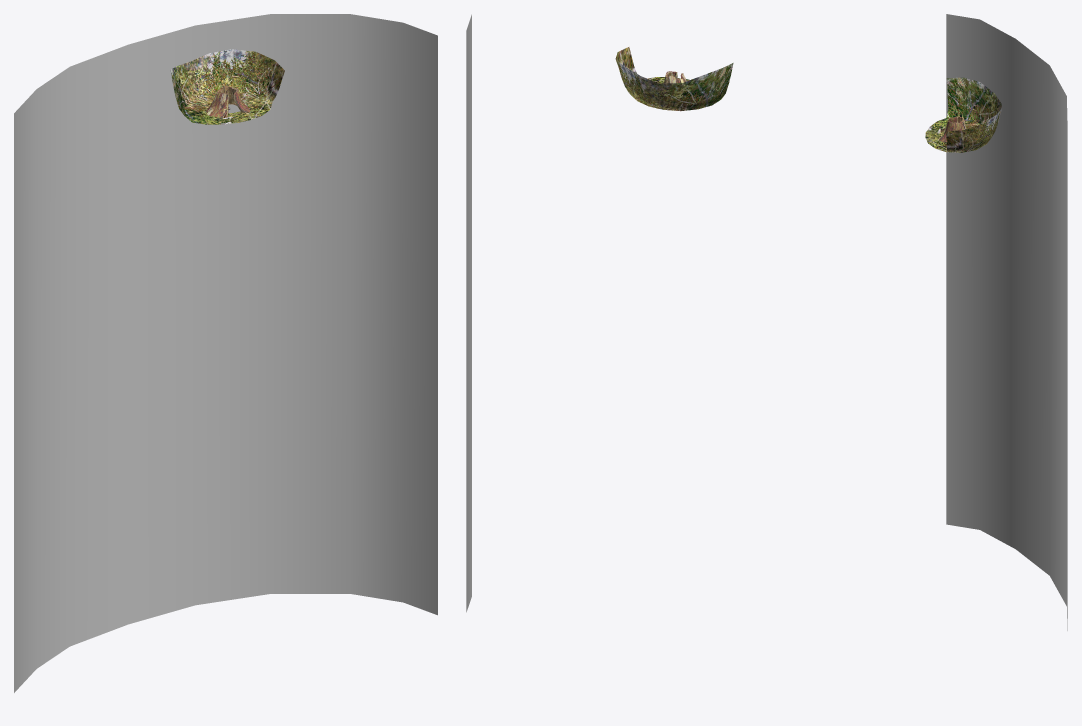
Rendered from hole.glb.
3 views of the same model, side by side, from view 1: azimuth 30°, elevation 25°; view 2: azimuth 150°, elevation 25°; view 3: azimuth 270°, elevation 25° (orthographic). The views are drawn at different scales.
Parts seen in each view (by area): view 1: Back, Ground, Trunk-col; view 2: Ground, Back; view 3: Back, Ground, Trunk-col.
Part boxes in pixels (left/top/right/bottom): Back: left=14, top=14, right=437, bottom=692; Ground: left=170, top=49, right=284, bottom=124; Trunk-col: left=206, top=85, right=250, bottom=117; Ground: left=615, top=47, right=733, bottom=111; Back: left=466, top=14, right=471, bottom=612; Back: left=946, top=14, right=1067, bottom=630; Ground: left=925, top=77, right=1001, bottom=152; Trunk-col: left=938, top=116, right=966, bottom=142.
Size of the model in its own units: 305 by 412 by 101.
3 materials, 3 textured.
